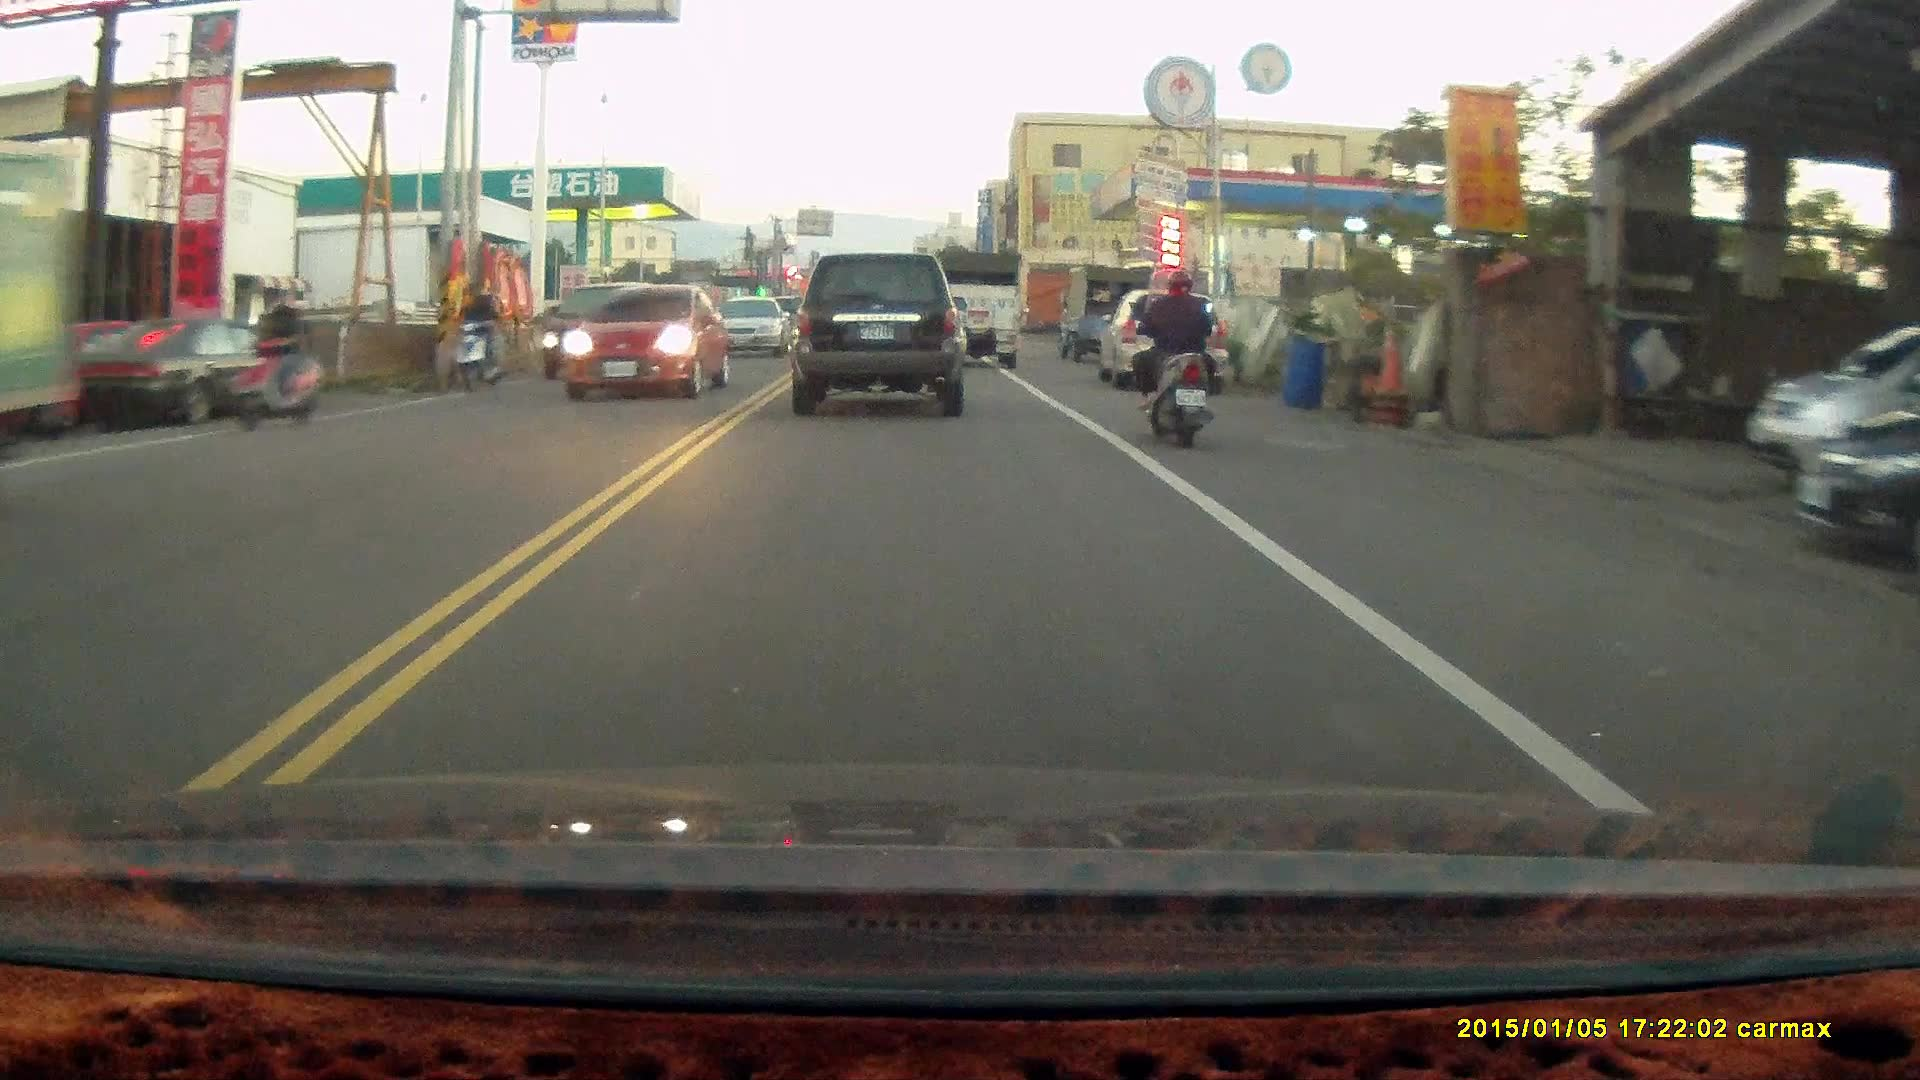rider: (1129, 266, 1224, 448), (221, 286, 324, 433), (439, 290, 501, 396)
vehicle: (788, 251, 969, 418), (62, 320, 322, 434), (563, 284, 733, 404), (1096, 289, 1232, 390), (542, 284, 666, 383), (930, 250, 1021, 371), (701, 295, 795, 355)
